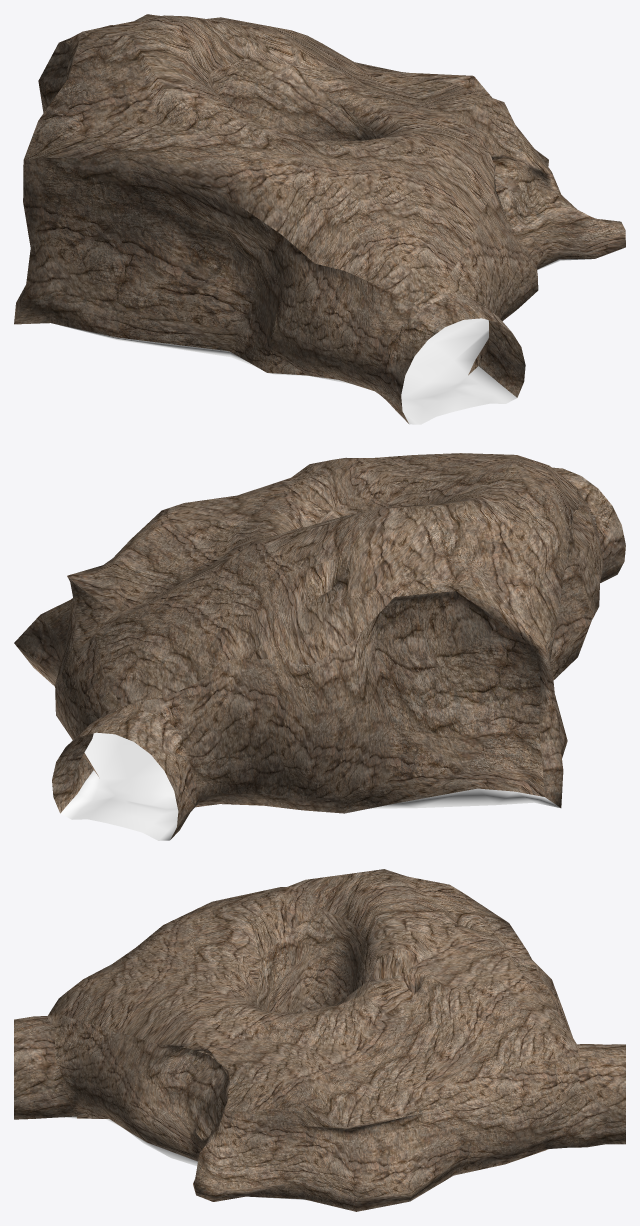
Rendered from CaveRoomPillarOpen.fbx.
3 views of the same model, one above another, from view 1: azimuth 30°, elevation 25°; view 2: azimuth 150°, elevation 25°; view 3: azimuth 270°, elevation 25° (orthographic). The views are drawn at different scales.
Parts seen in each view (by area): view 1: CaveRoomPillarOpen; view 2: CaveRoomPillarOpen; view 3: CaveRoomPillarOpen.
Boxes of the visible parts, <box> form: CaveRoomPillarOpen: <box>14,14,625,424</box>; CaveRoomPillarOpen: <box>14,453,625,840</box>; CaveRoomPillarOpen: <box>14,869,625,1211</box>.
Size of the model in its own units: 1341 by 633 by 1680.
